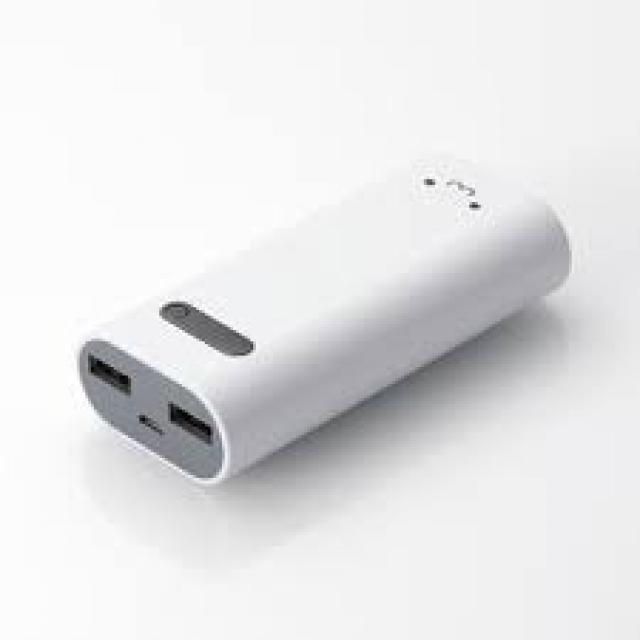non-organic waste: (77, 152, 577, 483)
